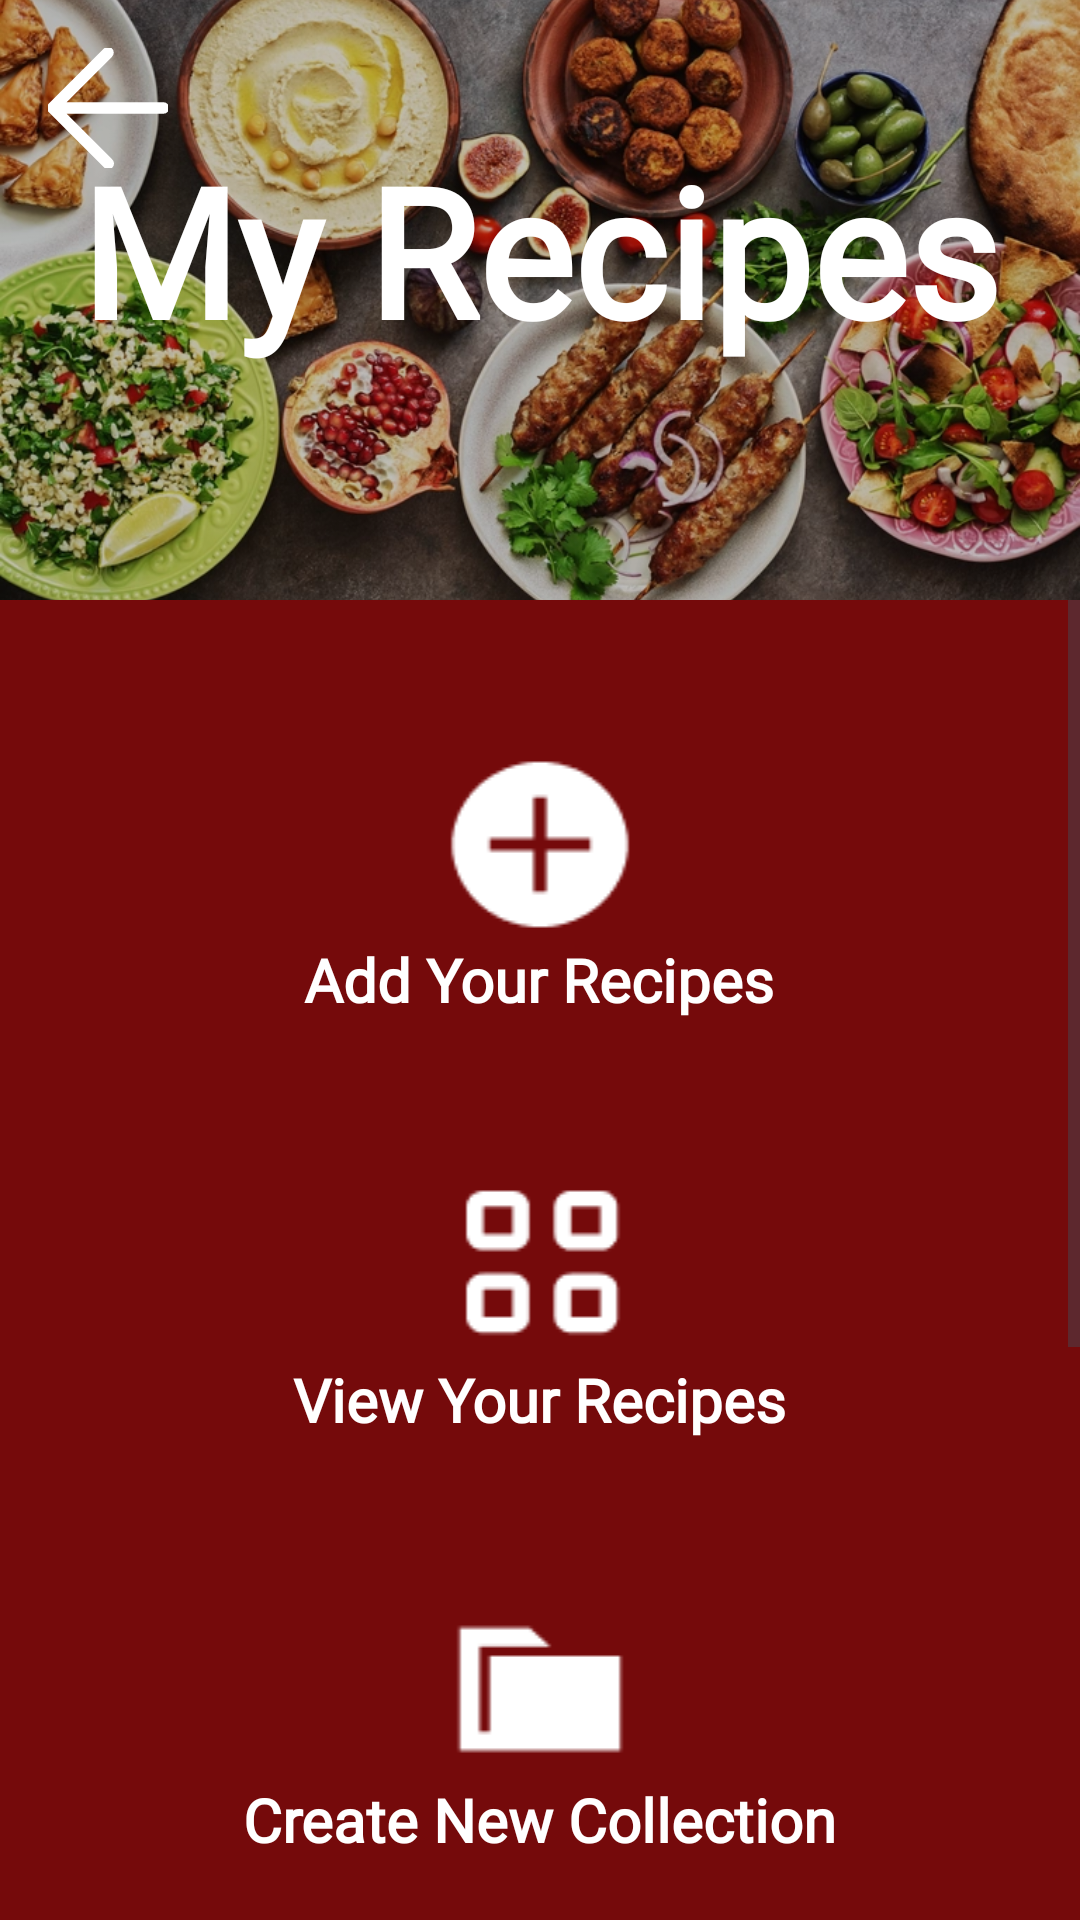

Point at icon controls on the screen. Image size 1080 × 1920, points as (x=x, y=y).
filecollection: (x=540, y=1689)
